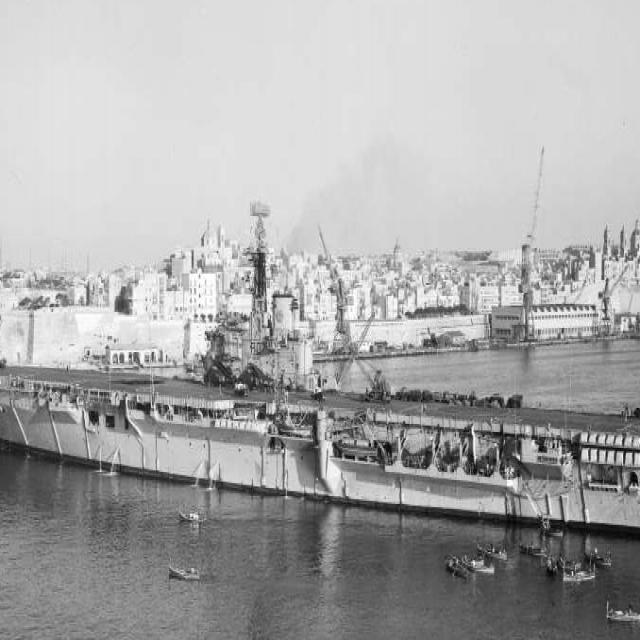Portanaves: (1, 185, 640, 545)
